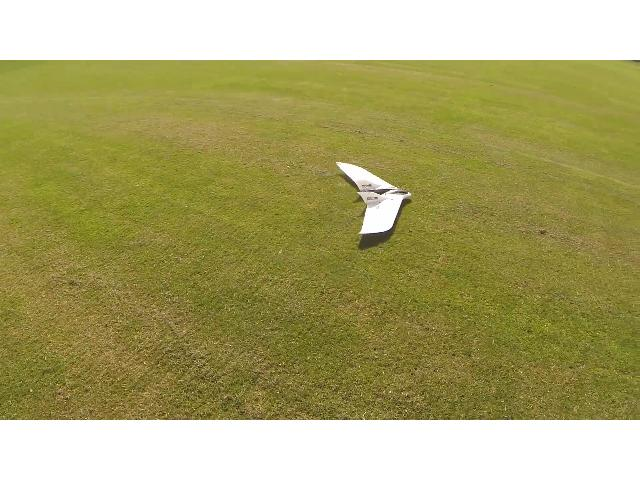Anti-Drone: (310, 149, 436, 253)
